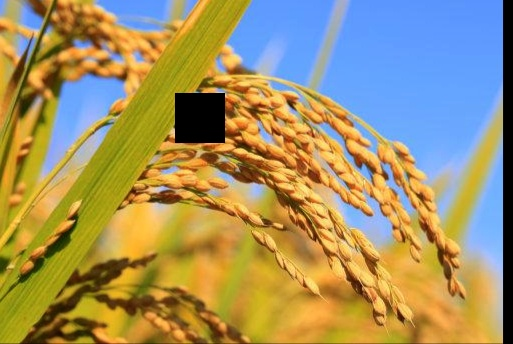rice: (37, 2, 478, 337)
